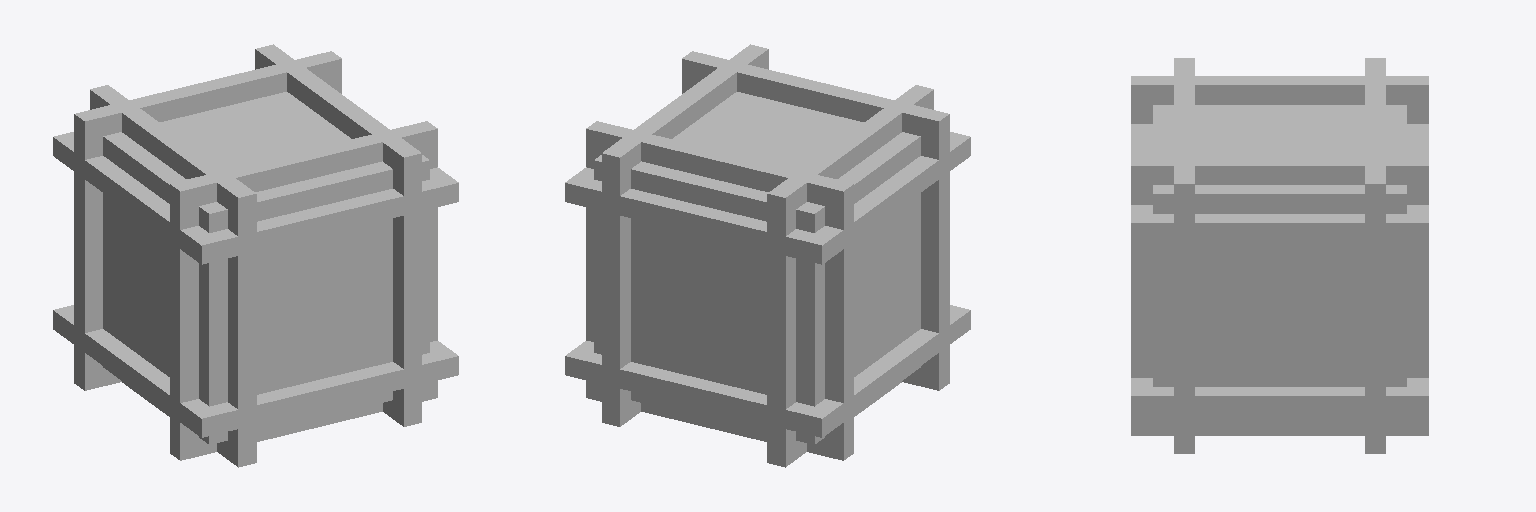
The model's file is ml_scalar_value_12.obj.
3 renders of one model, left to right at view 1: azimuth 30°, elevation 25°; view 2: azimuth 150°, elevation 25°; view 3: azimuth 270°, elevation 25°, orthographic.
Visible parts, largest first — view 1: ml_scalar_value_12.001; view 2: ml_scalar_value_12.001; view 3: ml_scalar_value_12.001.
Part boxes in pixels (x1,y1,x2,y2): ml_scalar_value_12.001: (53,44,458,467); ml_scalar_value_12.001: (565,44,970,467); ml_scalar_value_12.001: (1131,58,1428,453).
Size of the model in its own units: 0.7 by 0.7 by 0.7.